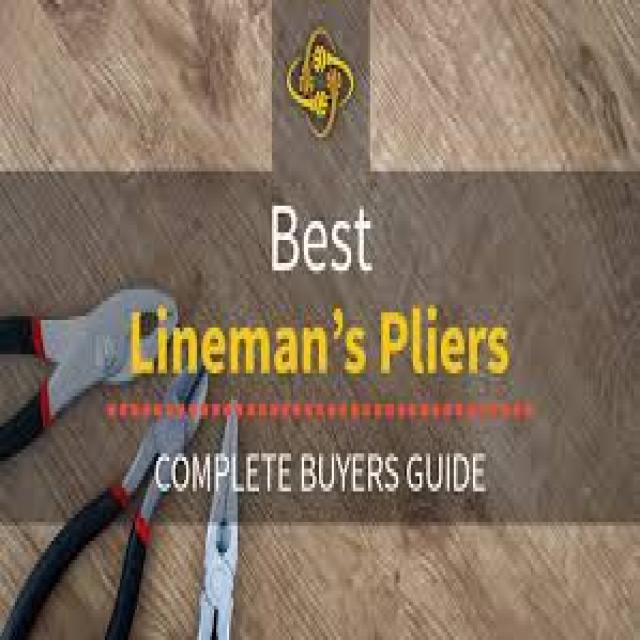pliers: (11, 343, 214, 640), (0, 251, 185, 458), (186, 387, 244, 640)
